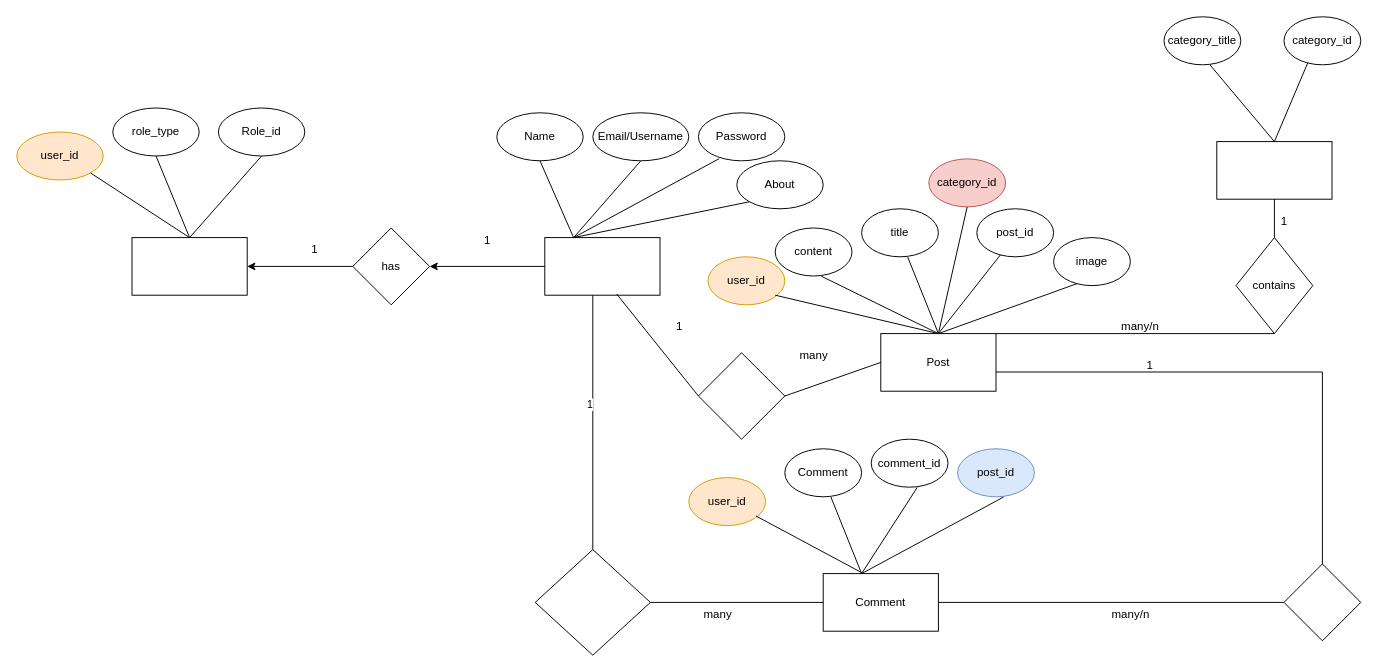
The diagram is 1378 pixels wide and 672 high, and some of its shapes have lost their labels. Each missing label, with the centre of its shape:
1 user can create many posts: (741,395)
can have: (1322,602)
category: (1274,170)
Role: (189,266)
User: (602,266)
user can do many comments: (592,602)
